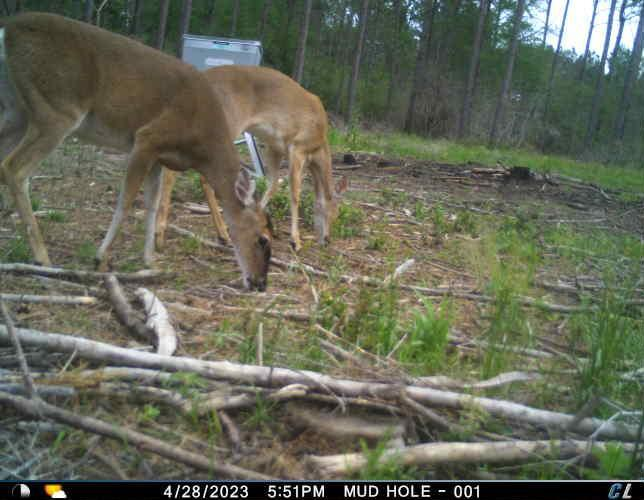Deer: (0, 6, 277, 294), (148, 61, 351, 256)
